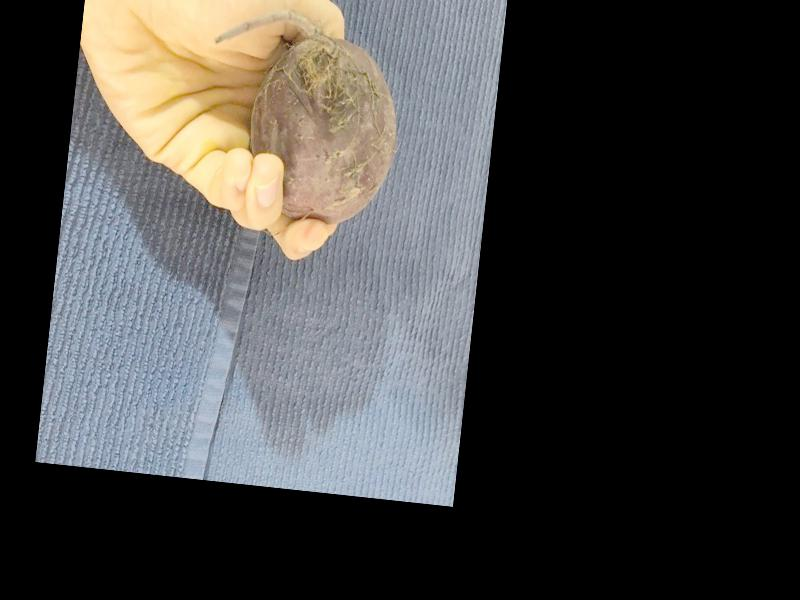Beet: (194, 4, 406, 229)
